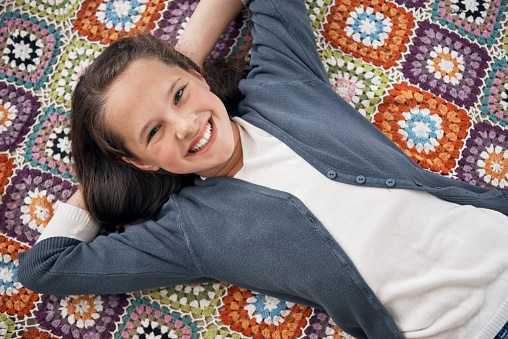deitado: (29, 0, 470, 335)
